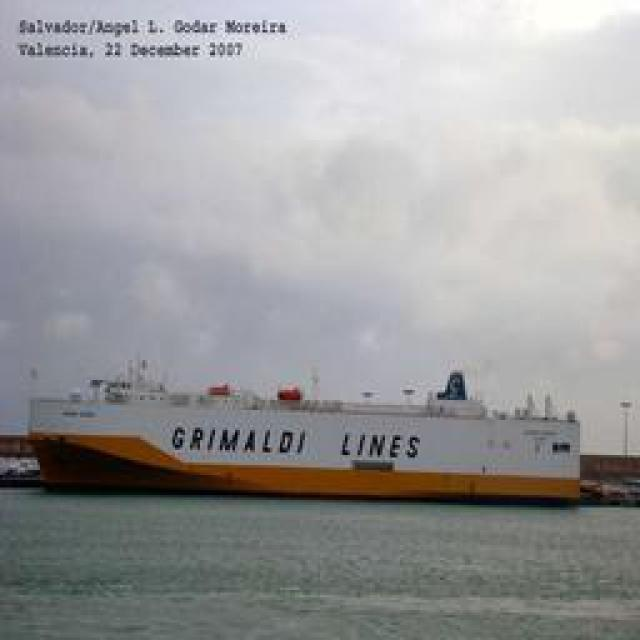CIV_Ship: (29, 350, 579, 502)
